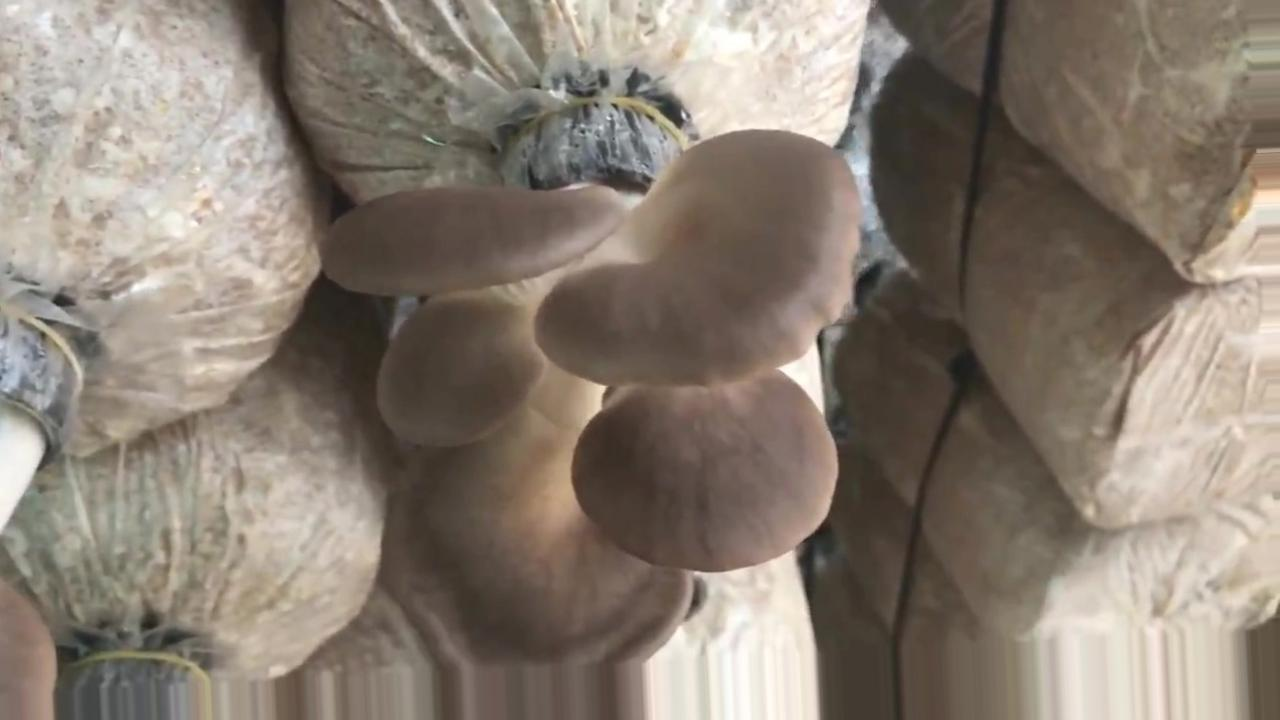nam: (324, 101, 860, 663), (1, 292, 80, 720)
